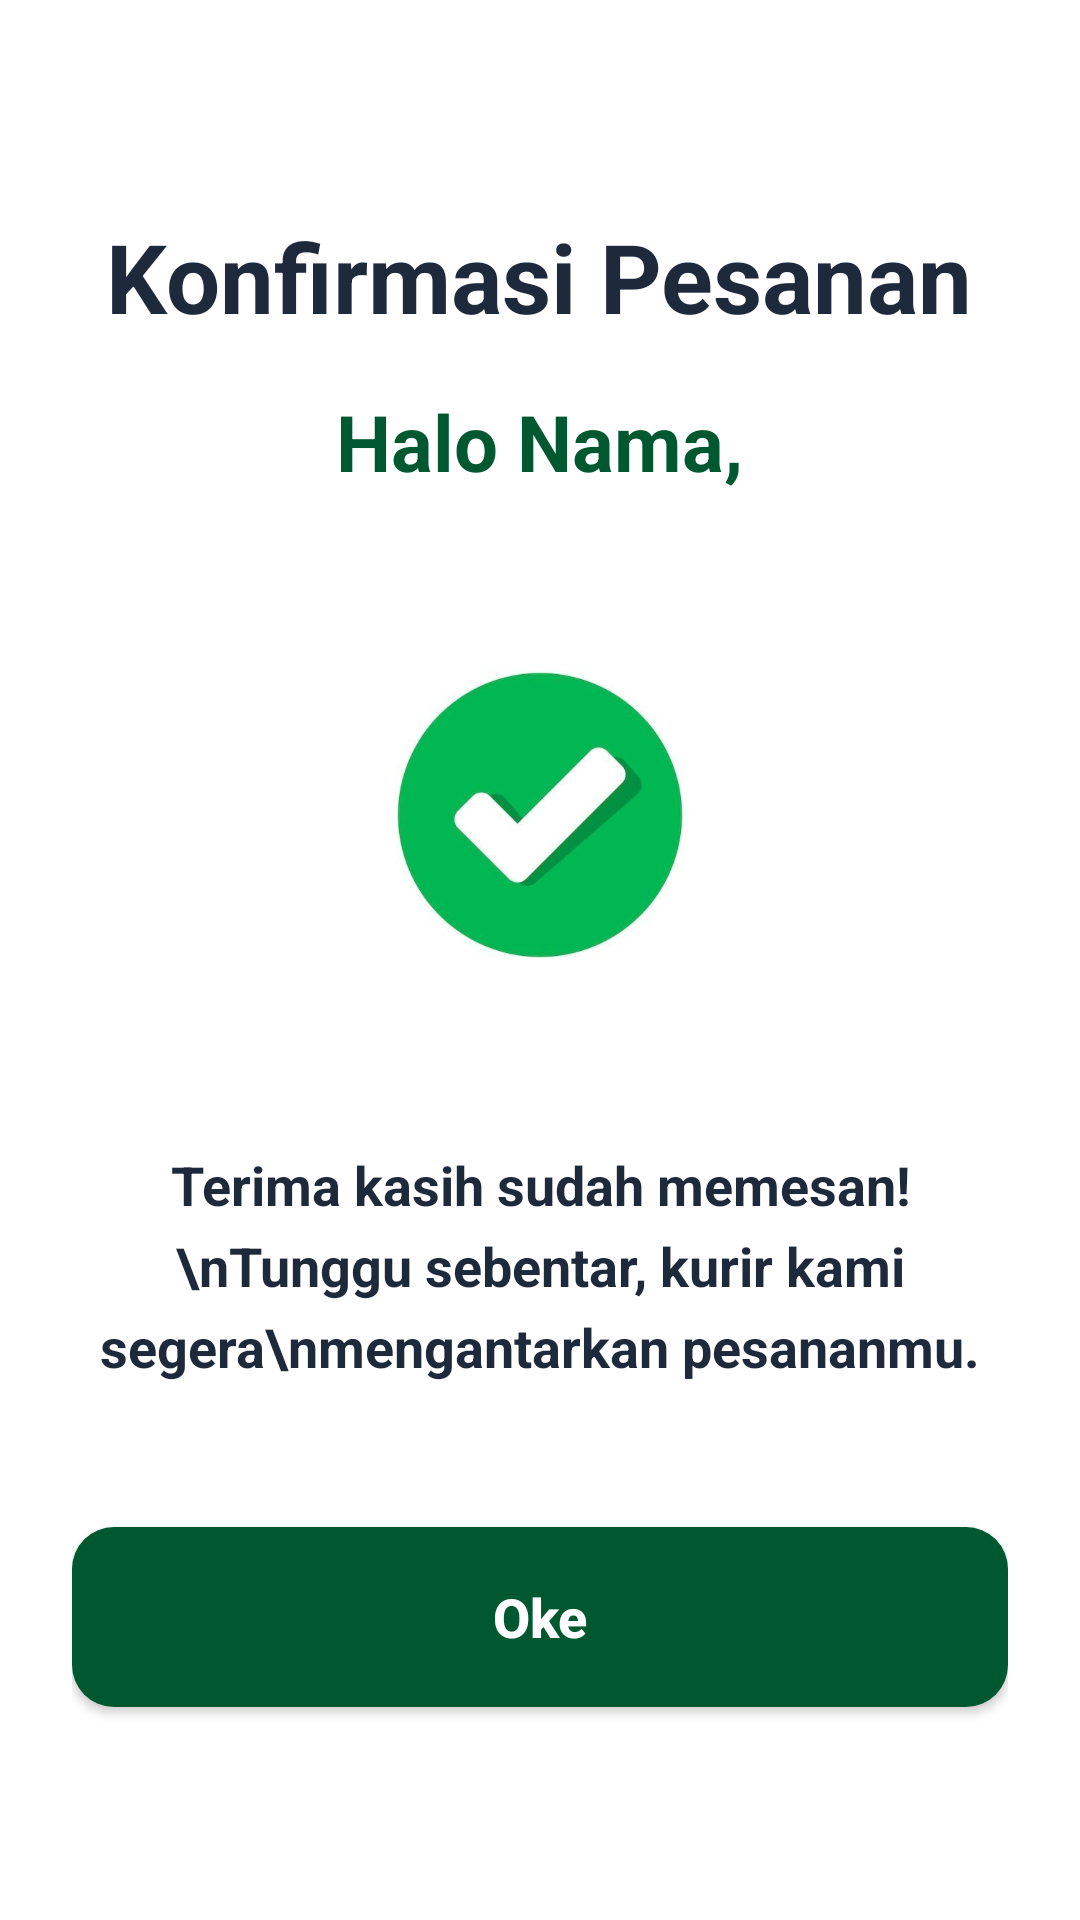

Where icons sit on this 1080 x 1920 app screen, as (x1, y1, x2, y2):
done: (397, 672, 683, 958)
